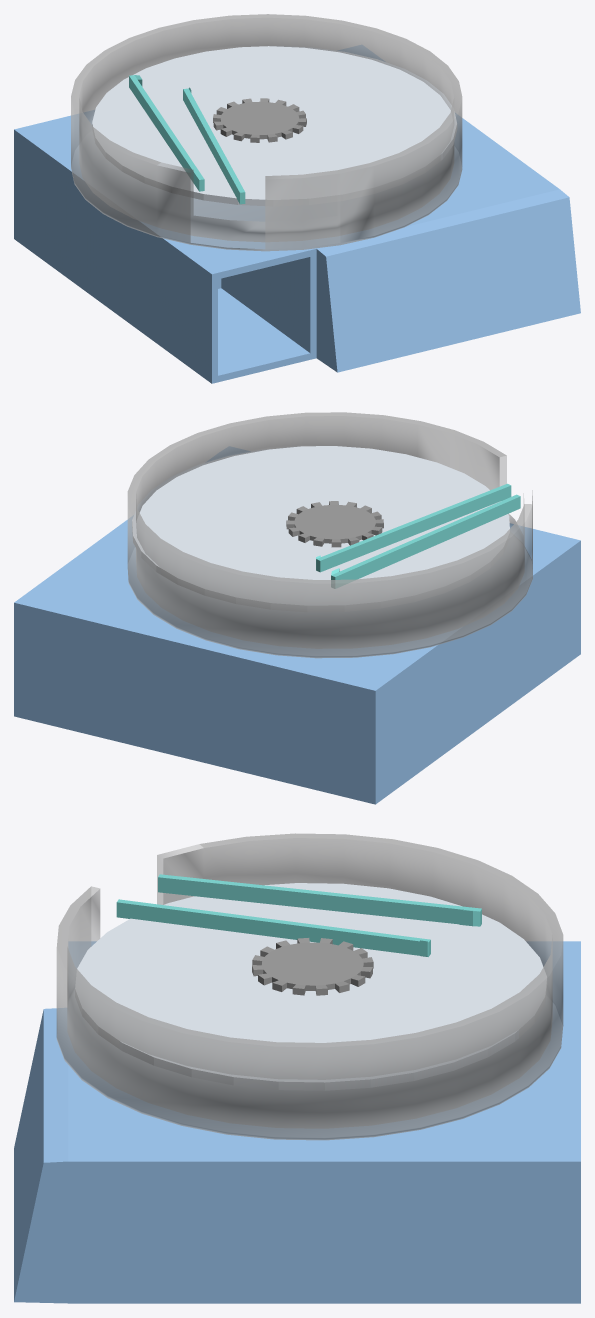
The model's file is dispenser.glb.
3 views of the same model, one above another, from view 1: azimuth 30°, elevation 25°; view 2: azimuth 150°, elevation 25°; view 3: azimuth 270°, elevation 25° (orthographic). The views are drawn at different scales.
Parts seen in each view (by area): view 1: Cube, Cylinder.001, Cylinder.002, Cylinder.003, Cube.002, Cube.001; view 2: Cube, Cylinder.001, Cylinder.002, Cylinder.003, Cube.002, Cube.001; view 3: Cube, Cylinder.001, Cylinder.002, Cube.002, Cube.001, Cylinder.003.
Boxes of the visible parts, left/top/right/bottom form: Cube: left=14, top=45, right=580, bottom=383; Cylinder.001: left=71, top=14, right=462, bottom=251; Cylinder.002: left=92, top=46, right=457, bottom=206; Cylinder.003: left=213, top=98, right=306, bottom=142; Cube.002: left=129, top=75, right=204, bottom=191; Cube.001: left=183, top=87, right=245, bottom=204; Cube: left=14, top=446, right=580, bottom=804; Cylinder.001: left=127, top=412, right=532, bottom=658; Cylinder.002: left=132, top=446, right=509, bottom=611; Cylinder.003: left=286, top=501, right=383, bottom=547; Cube.002: left=331, top=494, right=520, bottom=588; Cube.001: left=316, top=483, right=511, bottom=572; Cube: left=14, top=941, right=580, bottom=1303; Cylinder.001: left=56, top=833, right=563, bottom=1140; Cylinder.002: left=75, top=883, right=546, bottom=1090; Cube.002: left=158, top=874, right=481, bottom=926; Cube.001: left=116, top=899, right=430, bottom=956; Cylinder.003: left=252, top=938, right=373, bottom=995.
Size of the model in its own units: 3.46 by 1.64 by 3.56.
